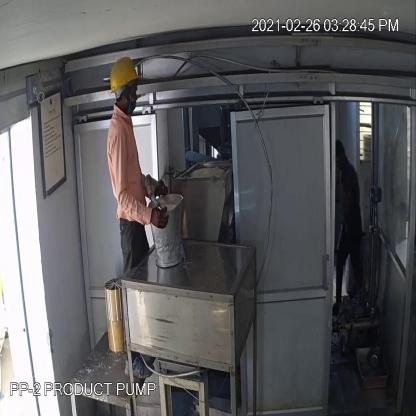helmet: (110, 56, 142, 100)
